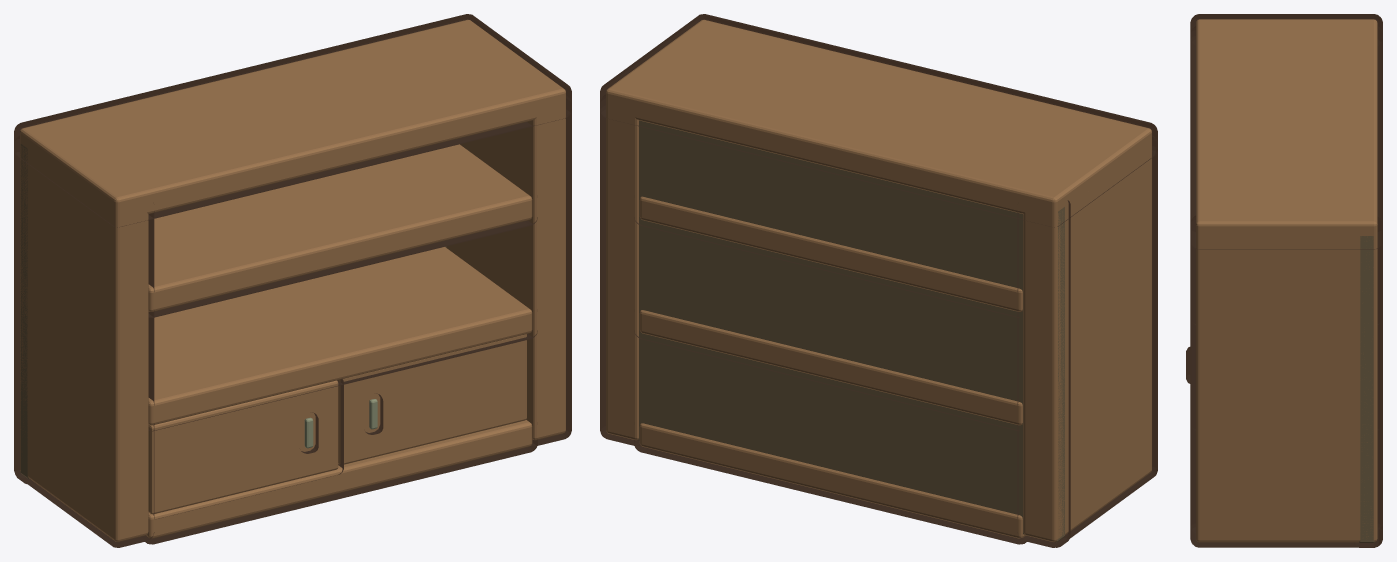
File: teahouse-bookcase.glb
3 renders of one model, left to right at view 1: azimuth 30°, elevation 25°; view 2: azimuth 150°, elevation 25°; view 3: azimuth 270°, elevation 25°, orthographic. The views are drawn at different scales.
Visible parts, largest first — view 1: teahouse-bookcase, teahouse-bookcase-outline; view 2: teahouse-bookcase, teahouse-bookcase-outline; view 3: teahouse-bookcase, teahouse-bookcase-outline.
Boxes of the visible parts, x1,y1,x2,y2 form: teahouse-bookcase: (20,19,565,542); teahouse-bookcase-outline: (14,14,571,547); teahouse-bookcase: (606,19,1151,542); teahouse-bookcase-outline: (600,14,1157,547); teahouse-bookcase: (1196,19,1377,542); teahouse-bookcase-outline: (1186,14,1382,547).
Size of the model in its own units: 1.64 by 1.22 by 0.6501.
